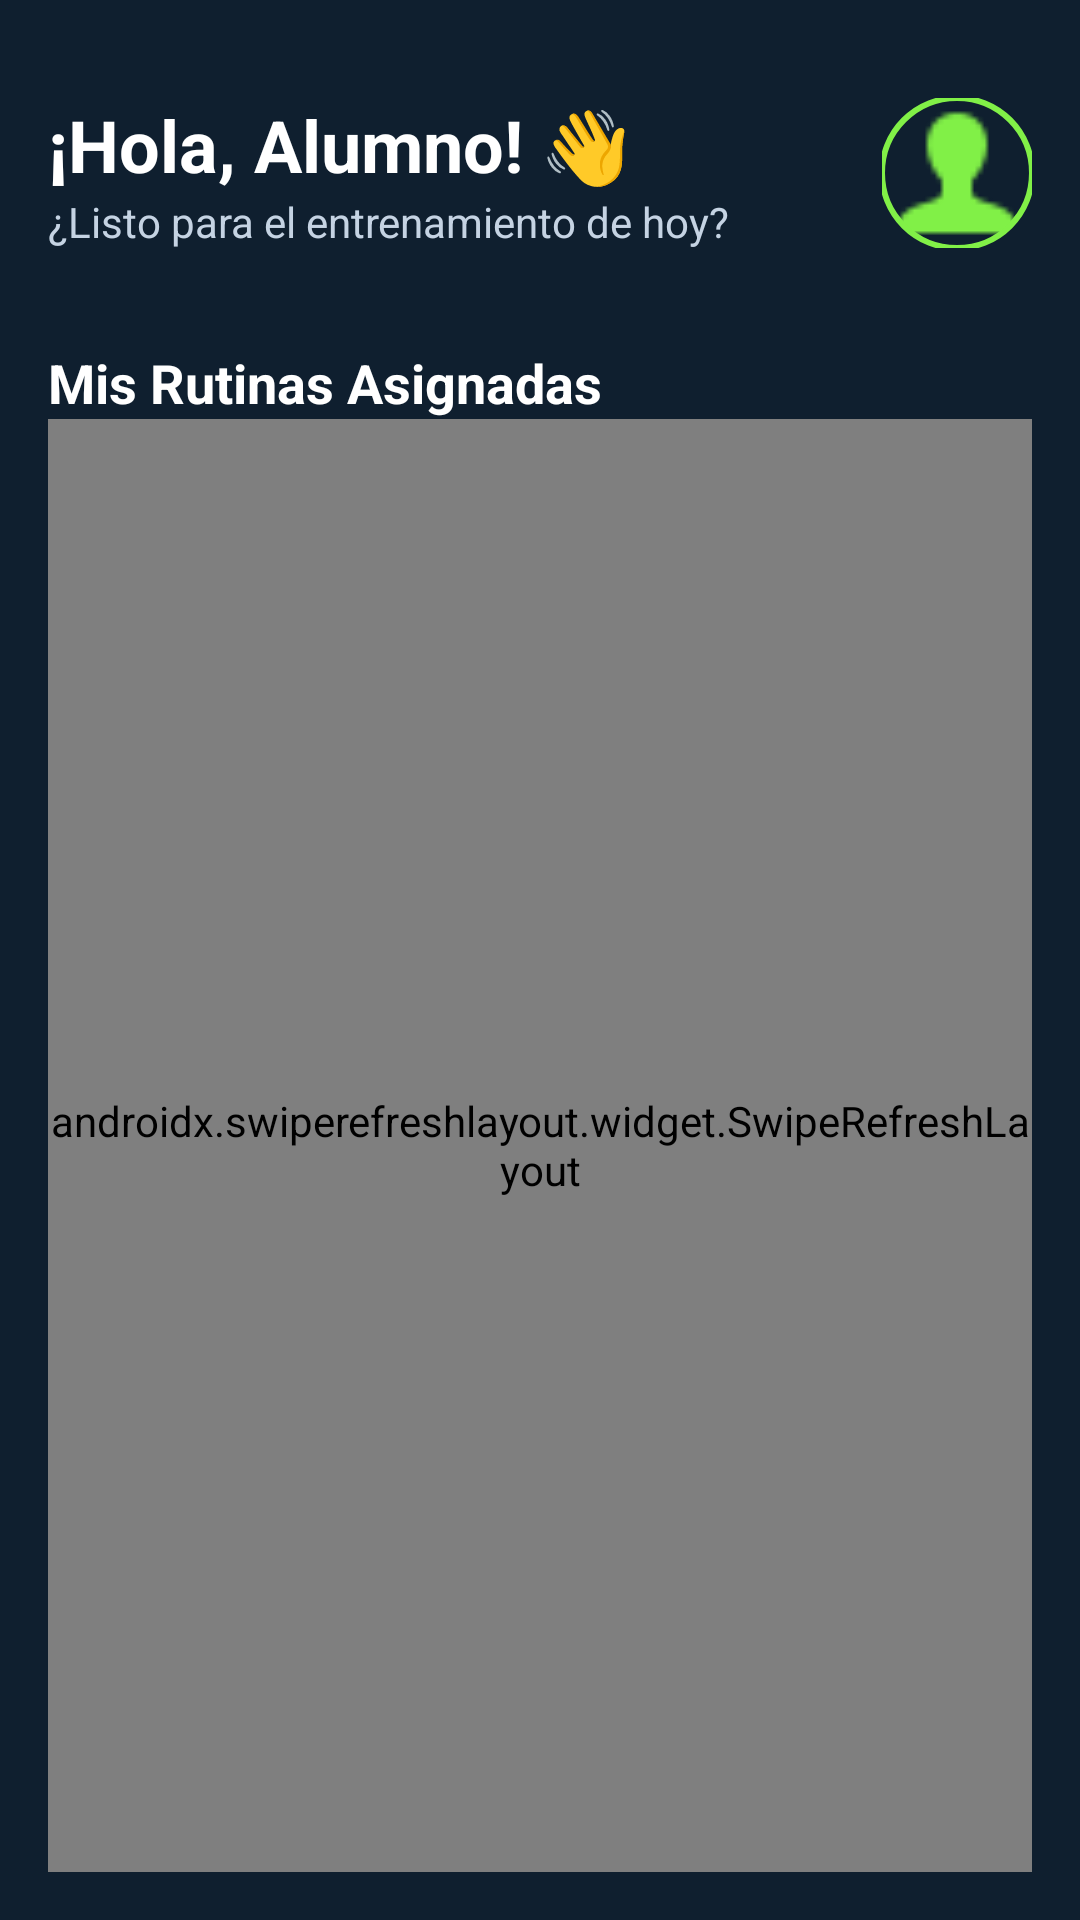

Where to tap for icons on this 1080*1920 app screen, as (x=x, y=y):
perfil: (x=957, y=173)
